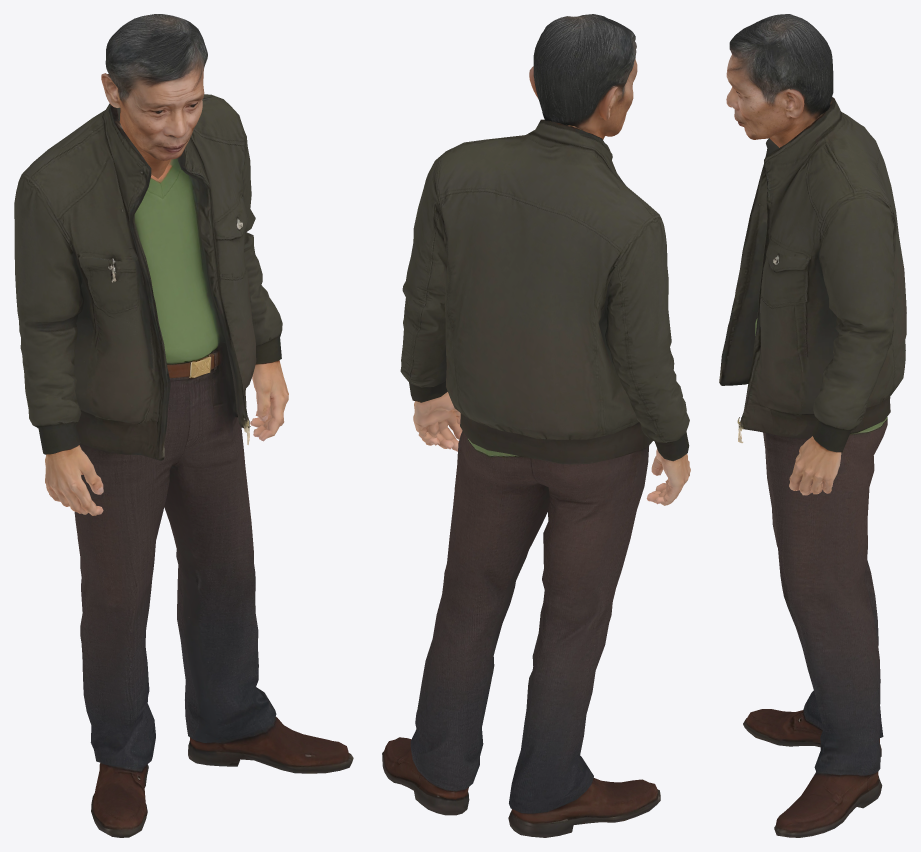
The model's file is avatar1.glb.
The picture shows the model from 3 angles, left to right: view 1: azimuth 30°, elevation 25°; view 2: azimuth 150°, elevation 25°; view 3: azimuth 270°, elevation 25°; orthographic projection. The views are drawn at different scales.
Parts seen in each view (by area): view 1: KH_008_nohead.001, reUv.001; view 2: KH_008_nohead.001, reUv.001; view 3: KH_008_nohead.001, reUv.001.
Boxes of the visible parts, x1=… form: KH_008_nohead.001: x1=14, y1=94, x2=353, y2=837; reUv.001: x1=101, y1=14, x2=207, y2=178; KH_008_nohead.001: x1=382, y1=119, x2=690, y2=837; reUv.001: x1=529, y1=14, x2=637, y2=139; KH_008_nohead.001: x1=719, y1=97, x2=906, y2=837; reUv.001: x1=726, y1=14, x2=833, y2=147.
Bounding box in the file's own units: 0.0688 × 0.1676 × 0.0389.
Materials: 2 (2 with a texture image).
